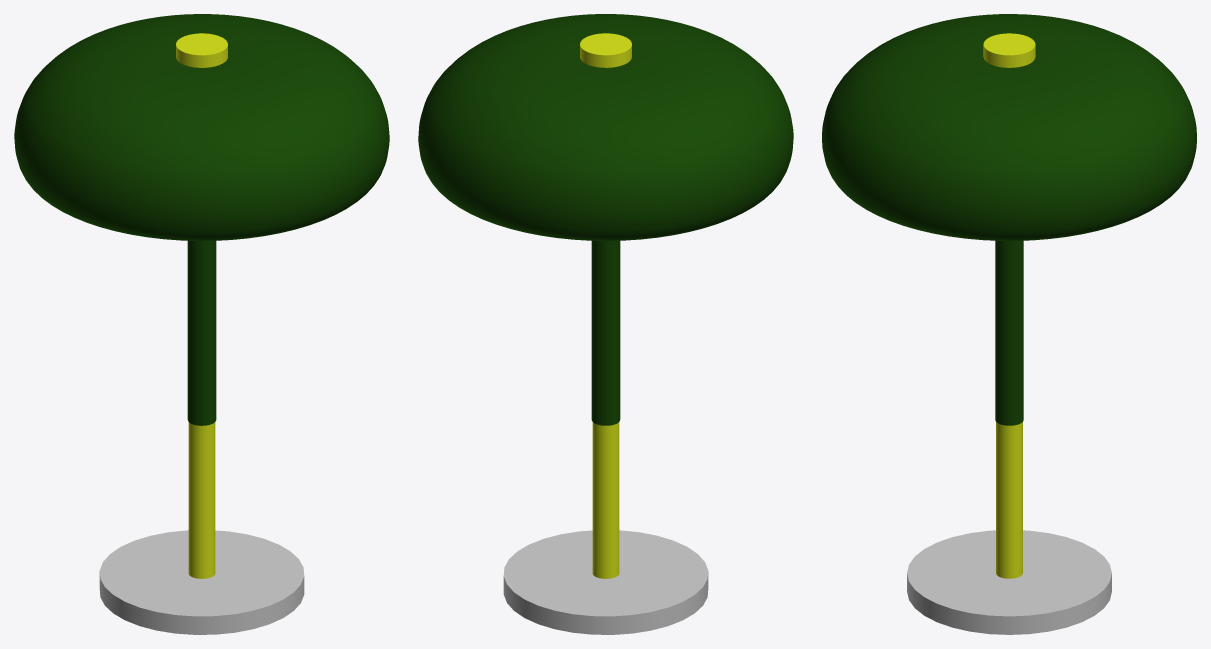
Rendered from lampe.glb.
3 renders of one model, left to right at view 1: azimuth 30°, elevation 25°; view 2: azimuth 150°, elevation 25°; view 3: azimuth 270°, elevation 25°, orthographic.
Parts seen in each view (by area): view 1: Pied_Material.001_0, Pied_Material.003_0, Pied_Material.002_0; view 2: Pied_Material.001_0, Pied_Material.003_0, Pied_Material.002_0; view 3: Pied_Material.001_0, Pied_Material.003_0, Pied_Material.002_0.
Boxes of the visible parts, left/top/right/bottom form: Pied_Material.001_0: left=14, top=14, right=389, bottom=425; Pied_Material.003_0: left=99, top=530, right=304, bottom=634; Pied_Material.002_0: left=176, top=33, right=227, bottom=578; Pied_Material.001_0: left=418, top=14, right=793, bottom=425; Pied_Material.003_0: left=503, top=530, right=708, bottom=634; Pied_Material.002_0: left=580, top=33, right=631, bottom=578; Pied_Material.001_0: left=822, top=14, right=1196, bottom=425; Pied_Material.003_0: left=907, top=530, right=1111, bottom=634; Pied_Material.002_0: left=983, top=33, right=1035, bottom=578.
Size of the model in its own units: 0.2794 by 0.4502 by 0.2794.
